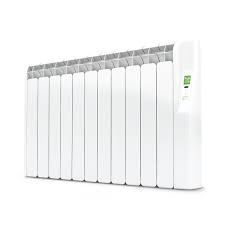Radiator: (24, 36, 206, 190)
